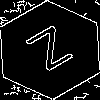Z: (25, 25, 82, 80)
